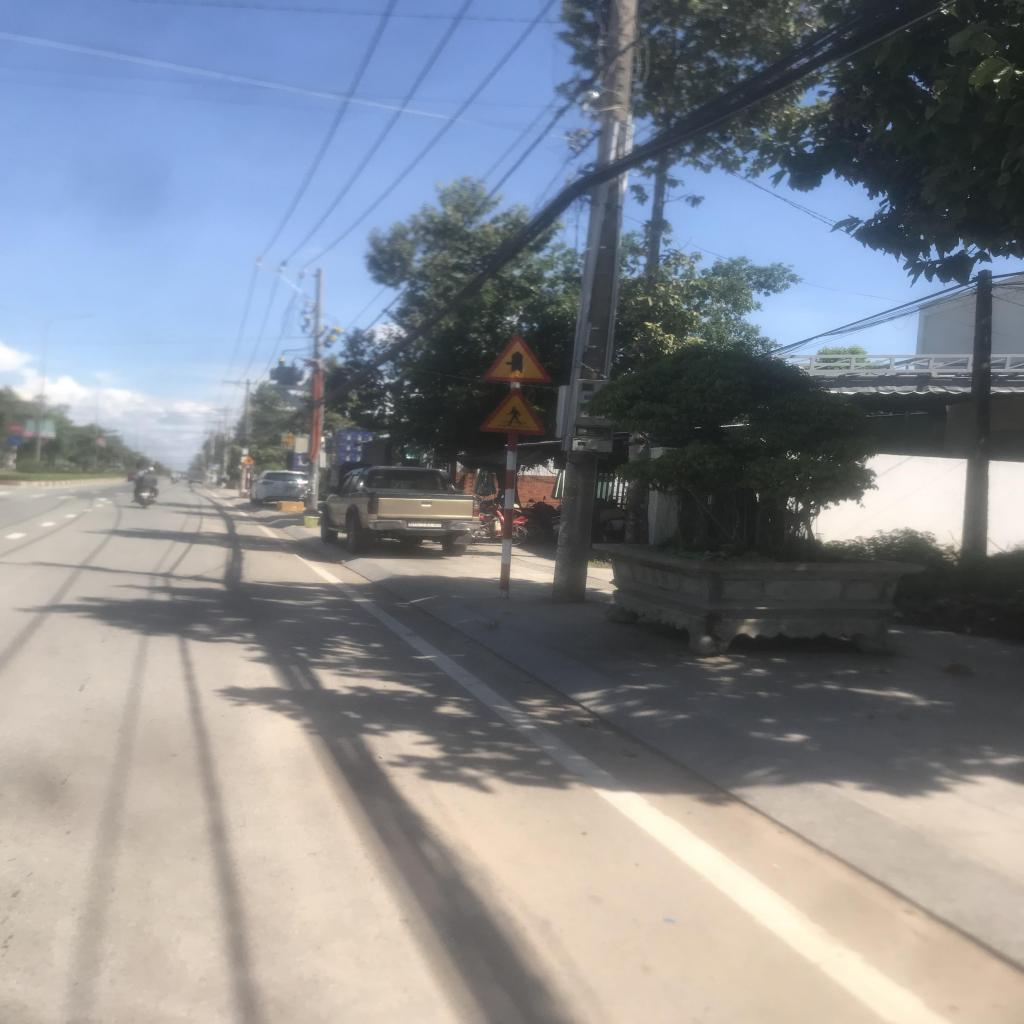chu_y_nguoi_di_bo_cat_ngang: (477, 387, 550, 435)
giao_nhau_voi_duong_khong_uu_tien: (481, 333, 553, 383)
